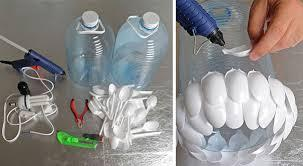Disposable tableware: (183, 81, 299, 132), (86, 84, 166, 153)
Plastic bottle: (111, 14, 169, 79), (61, 9, 110, 74)
